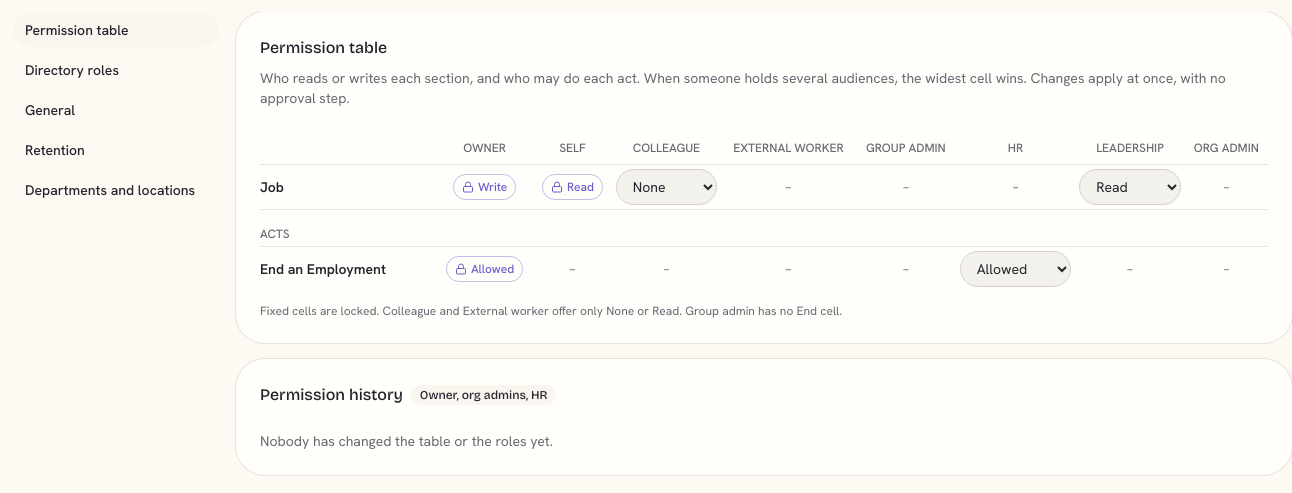
Test: DirectorySettings › the Directory roles panel › shows anyone else only the people who hold a role, read-only
The image size is (1292, 493).
Click the button "Directory roles" at (116, 70), box [12,52,220,88]
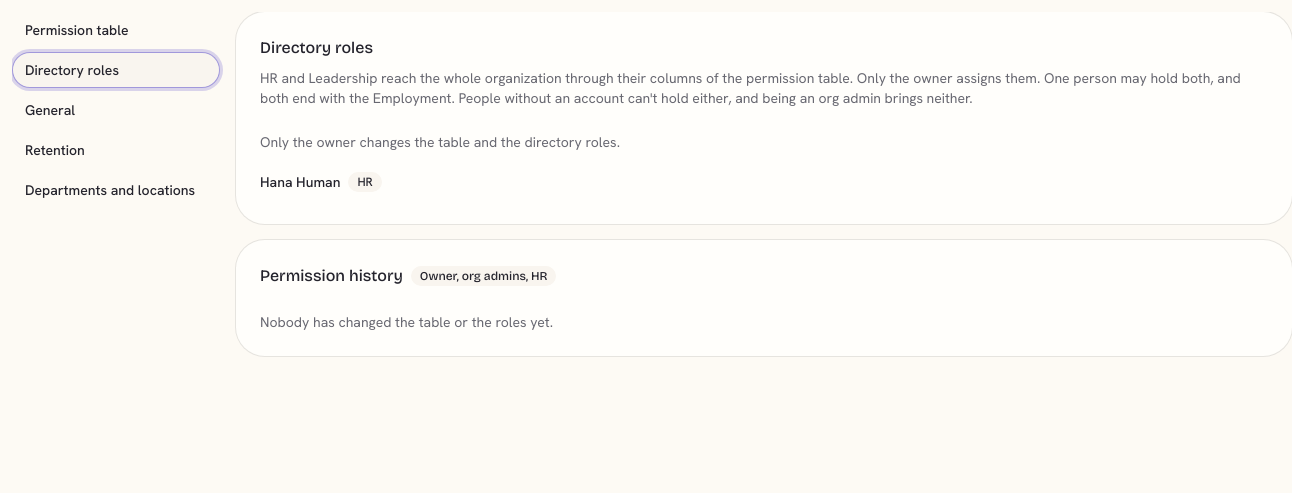
Expected: the text "Hana Human" is shown, [260,172,340,192]
